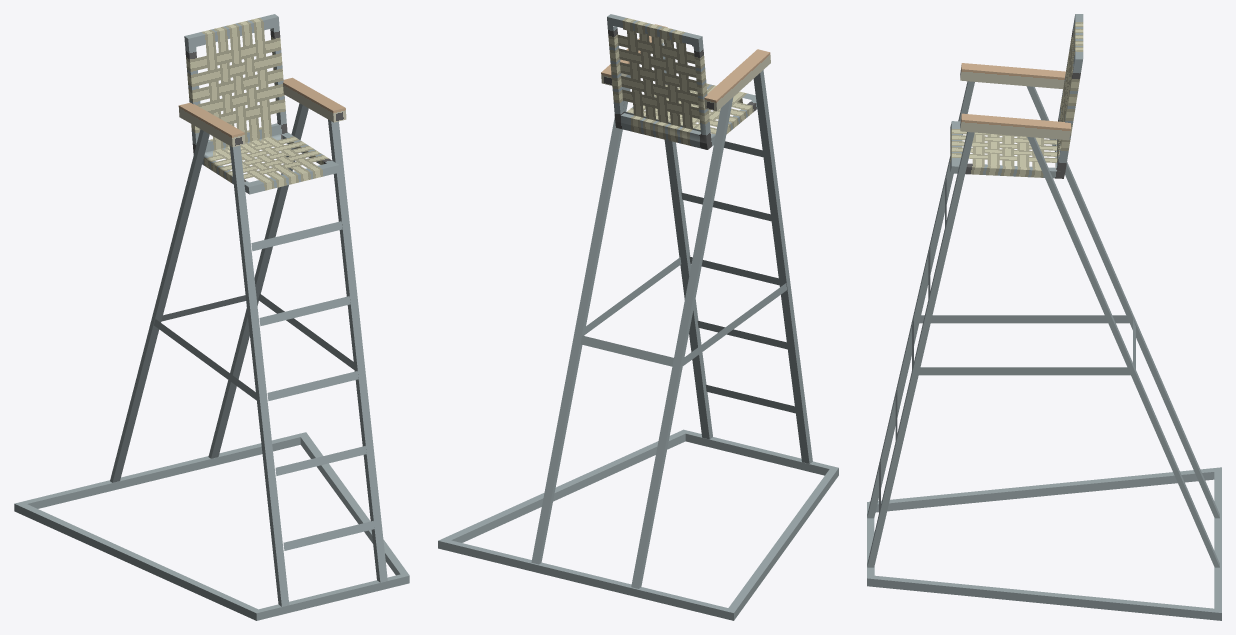
Rendered from 0497_Lifeguard_s_Chair.glb.
The picture shows the model from 3 angles, left to right: view 1: azimuth 30°, elevation 25°; view 2: azimuth 150°, elevation 25°; view 3: azimuth 270°, elevation 25°; orthographic projection. The views are drawn at different scales.
Visible parts, largest first — view 1: part_0; view 2: part_0; view 3: part_0.
Boxes of the visible parts, x1,y1,x2,y2 form: part_0: (14,14,409,620); part_0: (438,14,838,620); part_0: (867,14,1221,620).
Bounding box in the file's own units: 1.3 × 2.13 × 1.33.
1 material, 1 textured.
